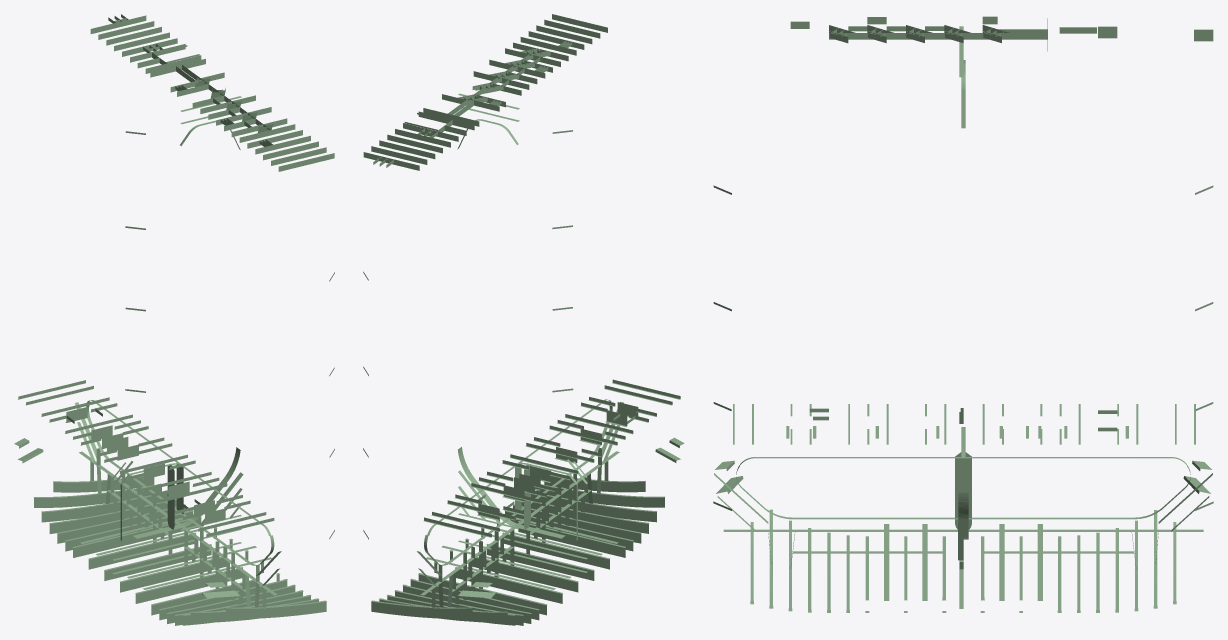
Rendered from PUMP_ROOM.glb.
3 views of the same model, side by side, from view 1: azimuth 30°, elevation 25°; view 2: azimuth 150°, elevation 25°; view 3: azimuth 270°, elevation 25° (orthographic). The views are drawn at different scales.
Visible parts, largest first — view 1: ST_OuterShellxEPRSxL01xWeb_002002-TW_645x16.5+150x22_NVA32_1, ST_OuterShellxEPRSxL03xWeb_001002-TW_645x16.5+150x22_NVA32_1, ST_OuterShellxEPRPxL03xWeb_001002-TW_645x16.5+150x22_NVA32_1, ST_OuterShellxEPRPxL10xWeb_002002-TW_645x16.5+150x22_NVA32_1, ST_OuterShellxEPRPxL09xWeb_001002-TW_645x16.5+150x22_NVA32_1, ST_OuterShellxEPRPxL01xWeb_002002-TW_645x16.5+150x22_NVA32_1, ST_OuterShellxEPRPxL05xWeb_001002-TW_645x16.5+150x22_NVA32_1, ST_OuterShellxEPRPxL08xWeb_001002-TW_645x16.5+150x22_NVA32_1, ST_OuterShellxEPRSxL11xWeb_002002-TW_645x16.5+150x22_NVA32_1, ST_OuterShellxEPRPxL07xWeb_001002-TW_645x16.5+150x22_NVA32_1, ST_OuterShellxEPRPxL11xWeb_002002-TW_645x16.5+150x22_NVA32_1, ST_OuterShellxEPRPxL06xWeb_001002-TW_645x16.5+150x22_NVA32_1 (+3 smaller); view 2: ST_OuterShellxEPRPxL01xWeb_002002-TW_645x16.5+150x22_NVA32_1, ST_OuterShellxEPRSxL10xWeb_002002-TW_645x16.5+150x22_NVA32_1, ST_OuterShellxEPRPxL03xWeb_001002-TW_645x16.5+150x22_NVA32_1, ST_OuterShellxEPRSxL03xWeb_001002-TW_645x16.5+150x22_NVA32_1, ST_OuterShellxEPRSxL01xWeb_002002-TW_645x16.5+150x22_NVA32_1, ST_OuterShellxEPRSxL05xWeb_001002-TW_645x16.5+150x22_NVA32_1, ST_OuterShellxEPRSxL09xWeb_001002-TW_645x16.5+150x22_NVA32_1, ST_OuterShellxEPRSxL08xWeb_001002-TW_645x16.5+150x22_NVA32_1, ST_OuterShellxEPRPxL11xWeb_002002-TW_645x16.5+150x22_NVA32_1, ST_OuterShellxEPRSxL07xWeb_001002-TW_645x16.5+150x22_NVA32_1, ST_OuterShellxEPRSxL11xWeb_002002-TW_645x16.5+150x22_NVA32_1, ST_OuterShellxEPRSxL06xWeb_001002-TW_645x16.5+150x22_NVA32_1 (+3 smaller); view 3: no part large enough to name.
Boxes of the visible parts, x1,y1,x2,y2 form: ST_OuterShellxEPRSxL01xWeb_002002-TW_645x16.5+150x22_NVA32_1: (120, 562, 207, 592); ST_OuterShellxEPRSxL03xWeb_001002-TW_645x16.5+150x22_NVA32_1: (135, 573, 223, 603); ST_OuterShellxEPRPxL03xWeb_001002-TW_645x16.5+150x22_NVA32_1: (88, 538, 176, 569); ST_OuterShellxEPRPxL10xWeb_002002-TW_645x16.5+150x22_NVA32_1: (34, 491, 120, 507); ST_OuterShellxEPRPxL09xWeb_001002-TW_645x16.5+150x22_NVA32_1: (41, 501, 129, 522); ST_OuterShellxEPRPxL01xWeb_002002-TW_645x16.5+150x22_NVA32_1: (104, 551, 191, 580); ST_OuterShellxEPRPxL05xWeb_001002-TW_645x16.5+150x22_NVA32_1: (73, 528, 160, 557); ST_OuterShellxEPRPxL08xWeb_001002-TW_645x16.5+150x22_NVA32_1: (49, 508, 137, 533); ST_OuterShellxEPRSxL11xWeb_002002-TW_645x16.5+150x22_NVA32_1: (225, 606, 286, 618); ST_OuterShellxEPRPxL07xWeb_001002-TW_645x16.5+150x22_NVA32_1: (57, 516, 144, 543); ST_OuterShellxEPRPxL11xWeb_002002-TW_645x16.5+150x22_NVA32_1: (53, 481, 107, 492); ST_OuterShellxEPRPxL06xWeb_001002-TW_645x16.5+150x22_NVA32_1: (65, 522, 152, 551); ST_OuterShellxEPRPxL01xWeb_002002-TW_645x16.5+150x22_NVA32_1: (490, 562, 578, 592); ST_OuterShellxEPRSxL10xWeb_002002-TW_645x16.5+150x22_NVA32_1: (578, 491, 664, 507); ST_OuterShellxEPRPxL03xWeb_001002-TW_645x16.5+150x22_NVA32_1: (475, 573, 562, 603); ST_OuterShellxEPRSxL03xWeb_001002-TW_645x16.5+150x22_NVA32_1: (521, 538, 609, 569); ST_OuterShellxEPRSxL01xWeb_002002-TW_645x16.5+150x22_NVA32_1: (506, 550, 594, 580); ST_OuterShellxEPRSxL05xWeb_001002-TW_645x16.5+150x22_NVA32_1: (537, 527, 625, 557); ST_OuterShellxEPRSxL09xWeb_001002-TW_645x16.5+150x22_NVA32_1: (569, 500, 656, 522); ST_OuterShellxEPRSxL08xWeb_001002-TW_645x16.5+150x22_NVA32_1: (561, 508, 648, 533); ST_OuterShellxEPRPxL11xWeb_002002-TW_645x16.5+150x22_NVA32_1: (411, 606, 472, 618); ST_OuterShellxEPRSxL07xWeb_001002-TW_645x16.5+150x22_NVA32_1: (553, 516, 641, 543); ST_OuterShellxEPRSxL11xWeb_002002-TW_645x16.5+150x22_NVA32_1: (591, 480, 645, 492); ST_OuterShellxEPRSxL06xWeb_001002-TW_645x16.5+150x22_NVA32_1: (545, 522, 633, 551).
Bounding box in the file's own units: 8.56 × 29.9 × 23.42.
